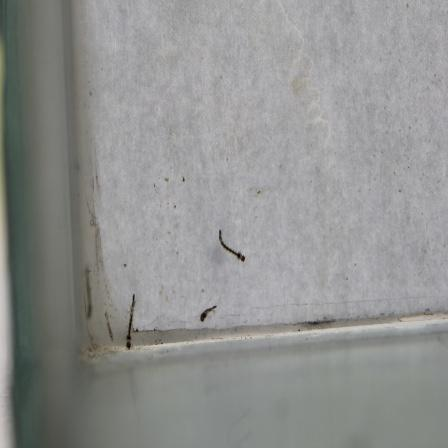Jentik-Nyamuk: (216, 225, 248, 265), (121, 291, 139, 354), (196, 302, 219, 324)
